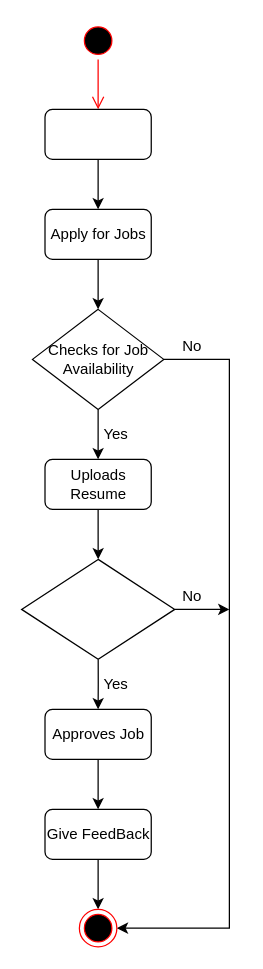
Some shapes in this 263 by 969 pixel diagram are drawn without their labels. Each missing label, with the centre of its shape:
"Comapany accepts Resume" goes at pixel 97 608.
"Login" goes at pixel 97 133.
